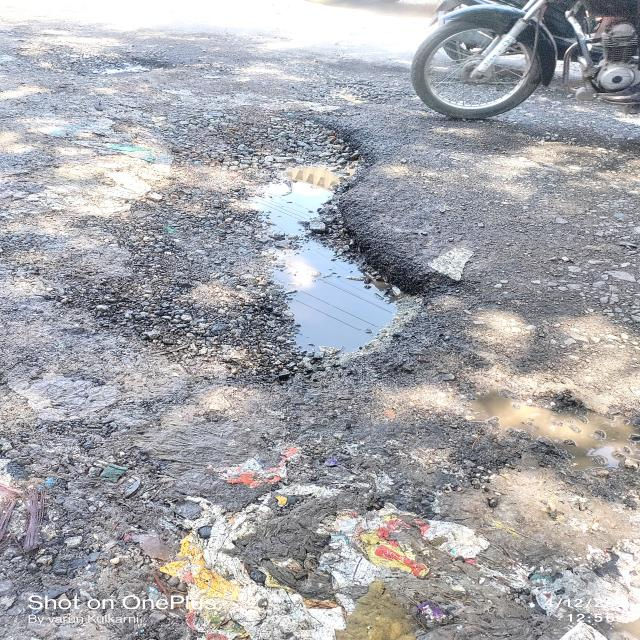Puddle pothole: (203, 111, 423, 371)
